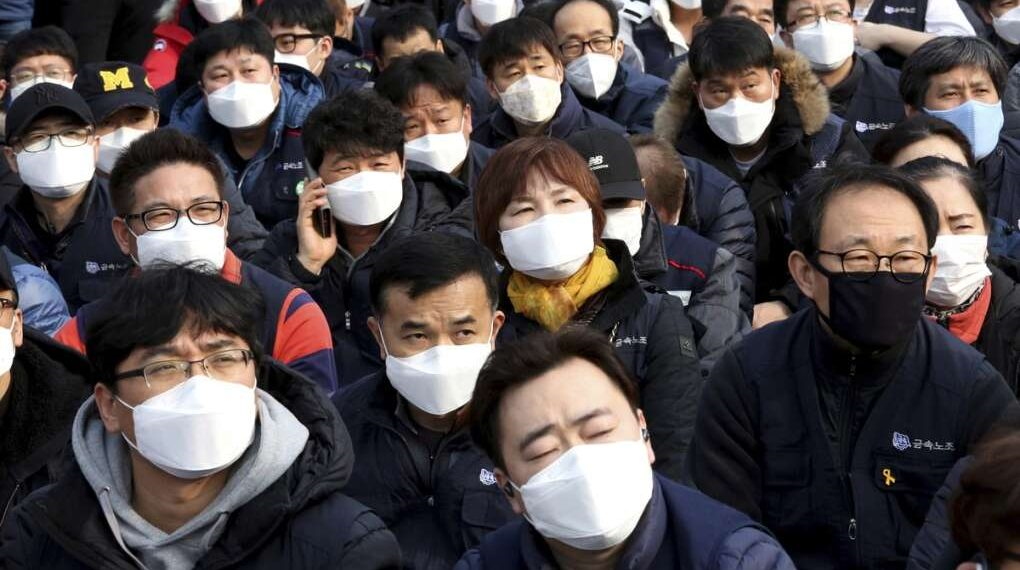with_mask: (502, 364, 656, 551), (110, 332, 260, 476), (807, 214, 937, 344), (373, 284, 501, 416), (497, 159, 603, 282), (903, 184, 996, 304), (123, 177, 228, 278), (899, 66, 1013, 153), (689, 47, 792, 140), (14, 95, 98, 201), (313, 141, 410, 222), (390, 89, 475, 172), (199, 43, 275, 129), (487, 45, 566, 120), (552, 8, 624, 88), (779, 1, 862, 64)
